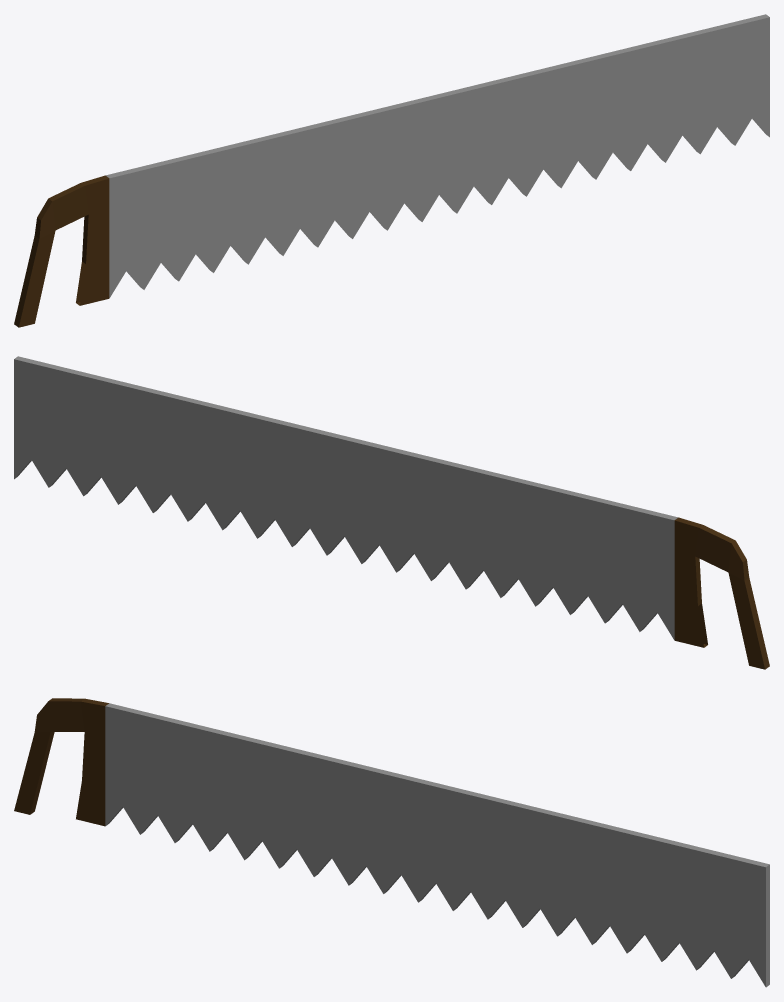
File: saw.fbx
3 renders of one model, top to bottom at view 1: azimuth 30°, elevation 25°; view 2: azimuth 150°, elevation 25°; view 3: azimuth 330°, elevation 25°, orthographic.
Parts seen in each view (by area): view 1: Cube; view 2: Cube; view 3: Cube.
Part boxes in pixels (box(x1,y1,x2,y2)): Cube: box(14, 14, 769, 327); Cube: box(14, 356, 769, 669); Cube: box(14, 698, 769, 987).
Size of the model in its own units: 14.47 by 1307 by 211.
